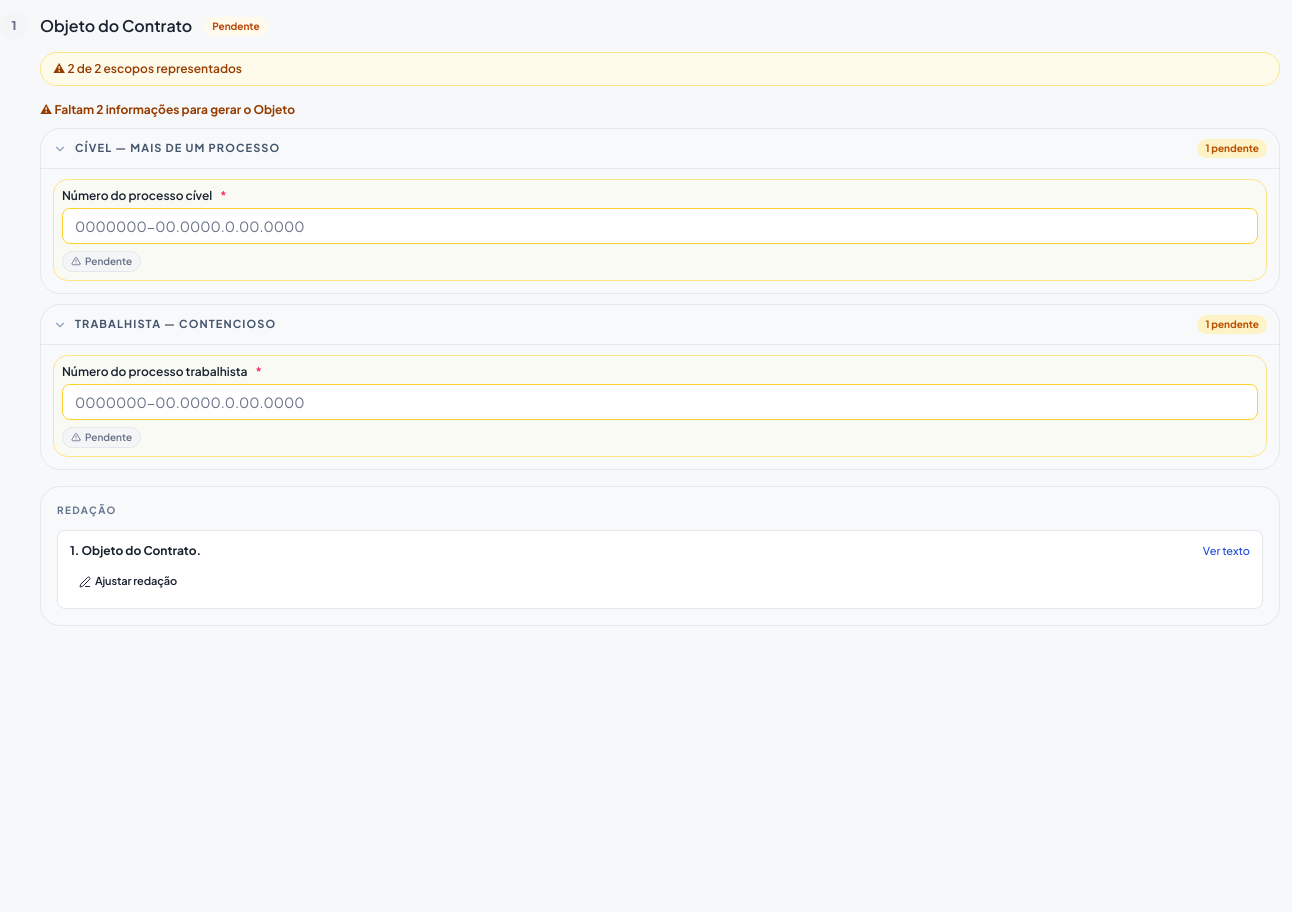
Test: ObjetoContratoSection — campos agrupados por escopo (recolhível) › recolher um grupo esconde só os campos dele, sem afetar o outro grupo
Check: the field labelled "Número do processo cível *" is shown, box [62,208,1258,244]
Check: the field labelled "Número do processo trabalhista *" is shown, box [62,384,1258,420]
Click the text "Cível — Mais de um processo" at (178, 148), box [75,141,280,154]
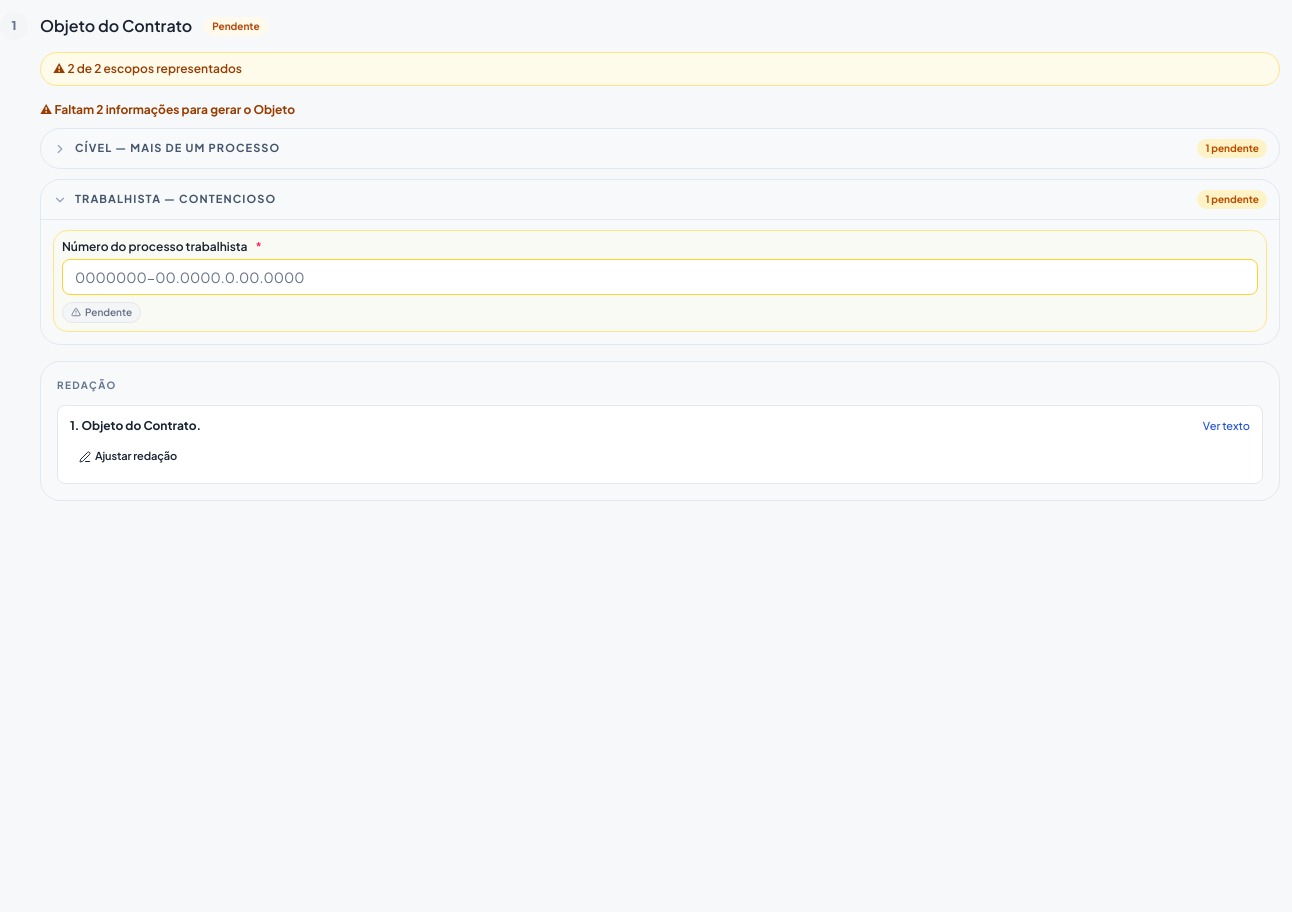
Check: the field labelled "Número do processo trabalhista *" is shown, box [62,259,1258,295]
Check: the label labelled "Número do processo cível" is gone
